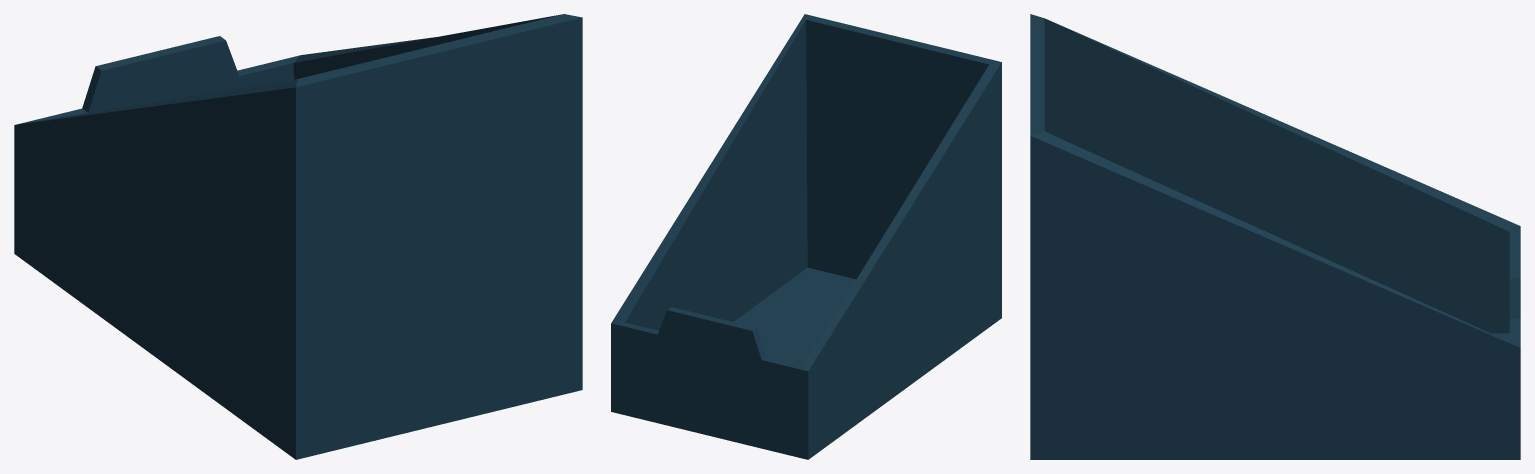
Rendered from FilesBlock.fbx.
3 views of the same model, side by side, from view 1: azimuth 30°, elevation 25°; view 2: azimuth 150°, elevation 25°; view 3: azimuth 270°, elevation 25° (orthographic). The views are drawn at different scales.
Parts seen in each view (by area): view 1: FilesBlock; view 2: FilesBlock; view 3: FilesBlock.
Boxes of the visible parts, <box> form: FilesBlock: <box>14,14,582,459</box>; FilesBlock: <box>611,14,1001,459</box>; FilesBlock: <box>1030,14,1520,459</box>.
Bounding box in the file's own units: 24.39 × 30.29 × 41.49.
